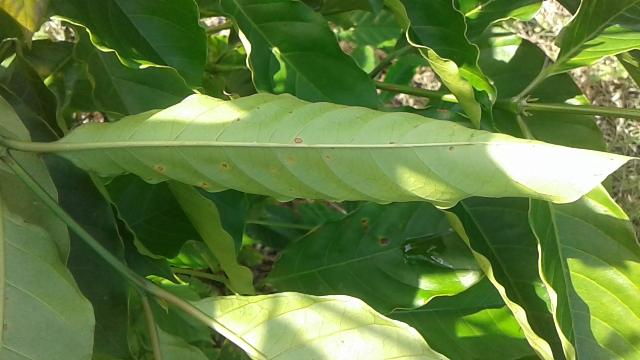rust_level_1: (48, 88, 640, 212)
